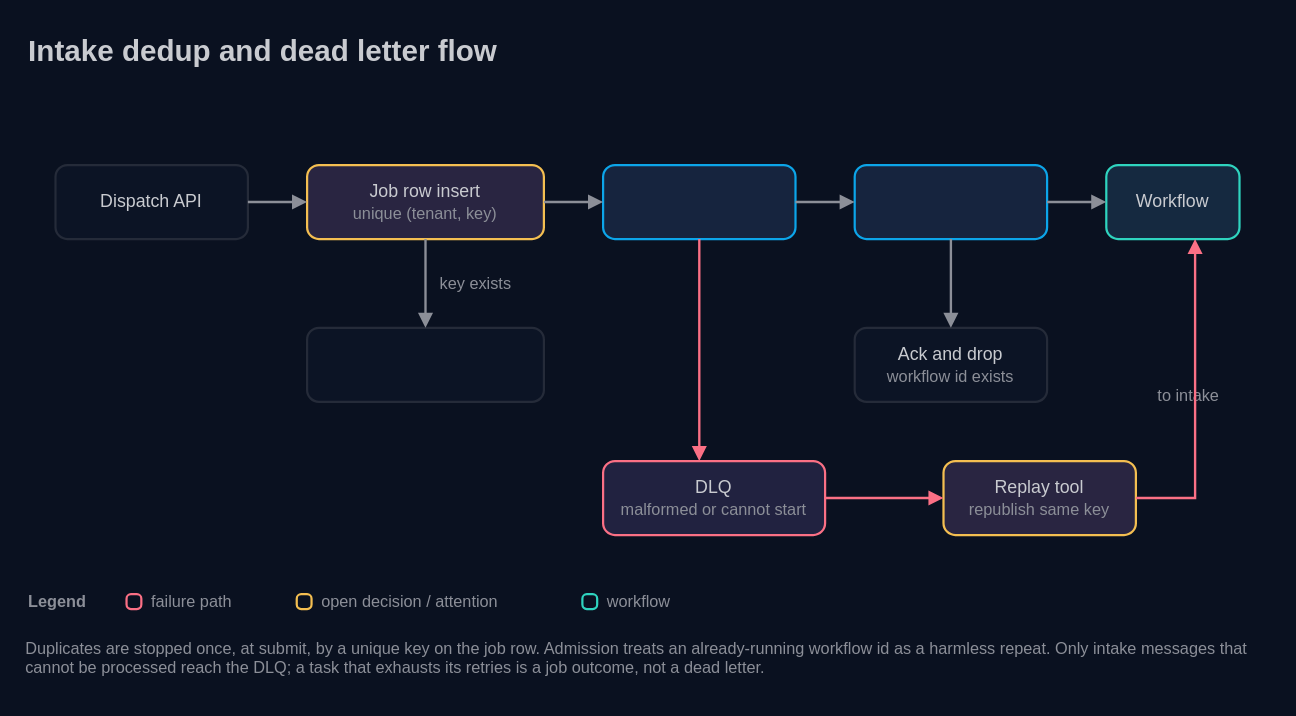
This 1296x716 diagram has some shape labels left out. The box of each missing label's shape, as (x1, y1, x2, y2) in pixels:
Admission starts workflow: (853, 163, 1048, 239)
Intake queues: (601, 163, 796, 239)
Return existing job counted, nothing queued: (305, 326, 544, 402)
